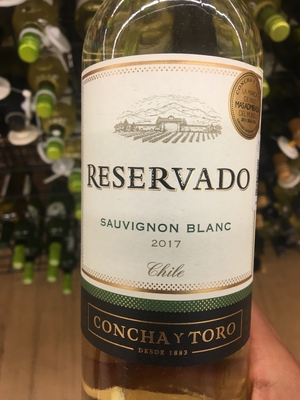reservado sauvignon blanc: (79, 10, 266, 400)
